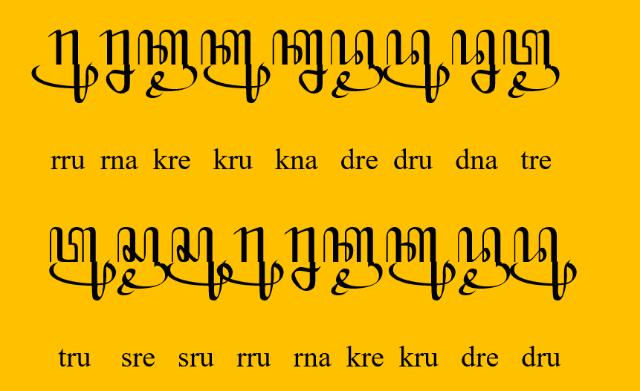dn: (451, 28, 501, 94)
dre: (331, 29, 383, 99), (458, 228, 510, 296)
dru: (382, 29, 450, 105), (509, 226, 576, 302)
kn: (272, 28, 328, 94)
kre: (322, 226, 383, 298), (138, 29, 198, 99)
kru: (200, 28, 272, 104), (386, 226, 456, 302)
rn: (98, 28, 136, 94), (284, 227, 322, 293)
rru: (31, 28, 99, 104), (220, 227, 284, 301)
sre: (118, 226, 168, 296)
sru: (167, 227, 233, 301)
tre: (502, 30, 560, 98)
tru: (50, 227, 116, 301)
